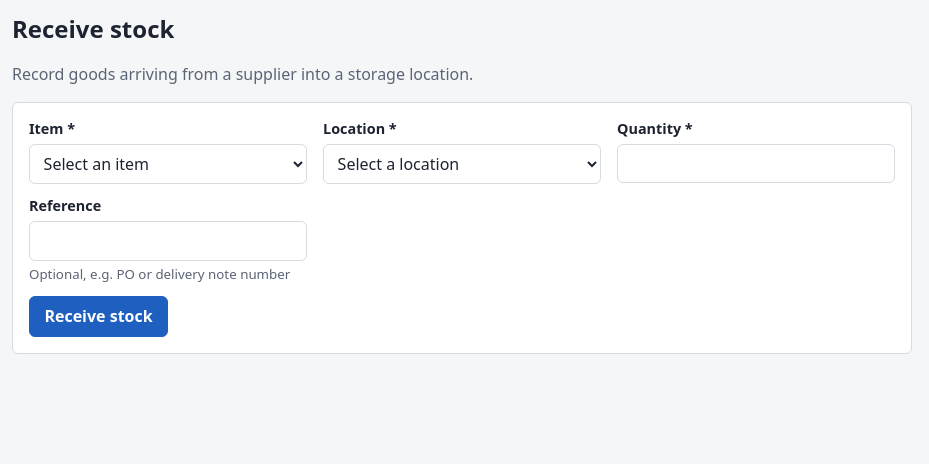
Test: ReceivePage › shows the server error and field errors and preserves the input
Select "BOLT-10 — Bolt 10mm" in the dropdown labelled "Item *": x=168, y=164 [29,144,307,184]
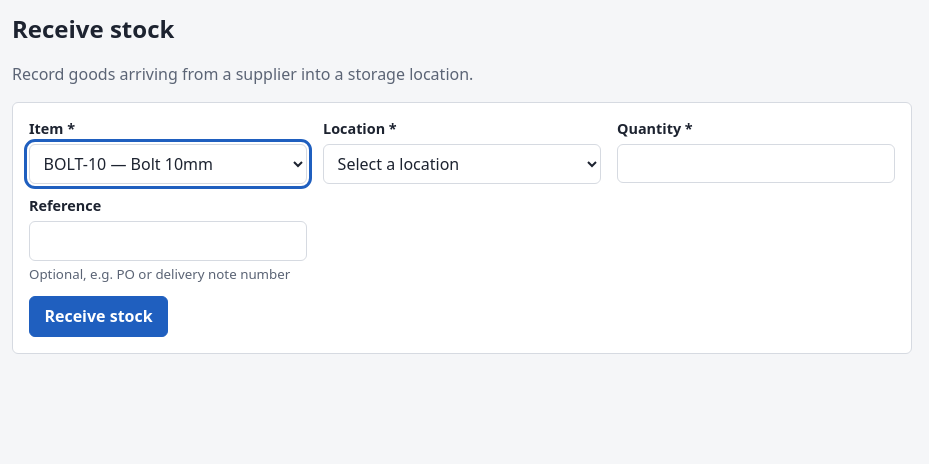
Select "A-01 — Aisle A bay 1" in the dropdown labelled "Location *": x=462, y=164 [323,144,601,184]
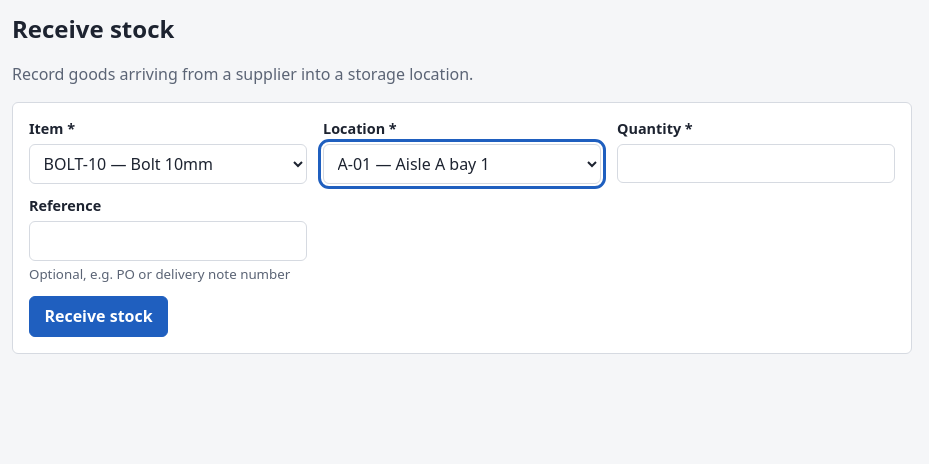
In the field labelled "Quantity *": x=756, y=164 [617,144,895,184], type "10"
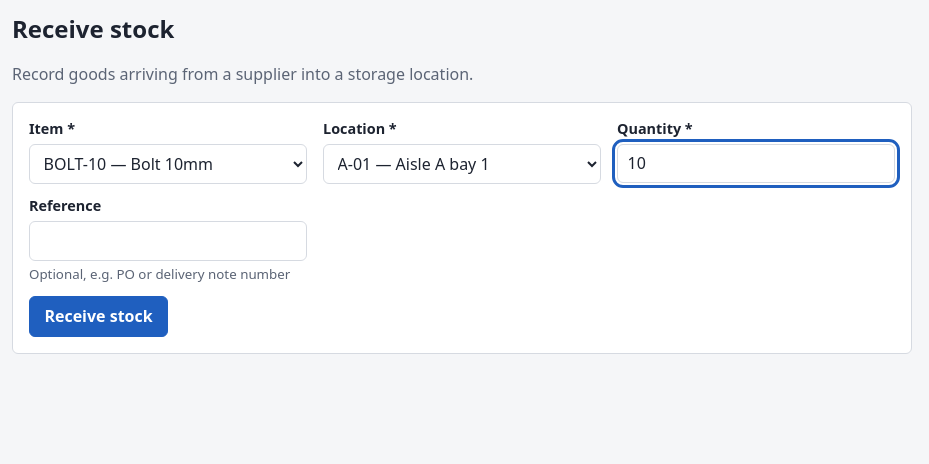
In the field labelled "Reference": x=168, y=241 [29,221,307,261], type "PO-1"
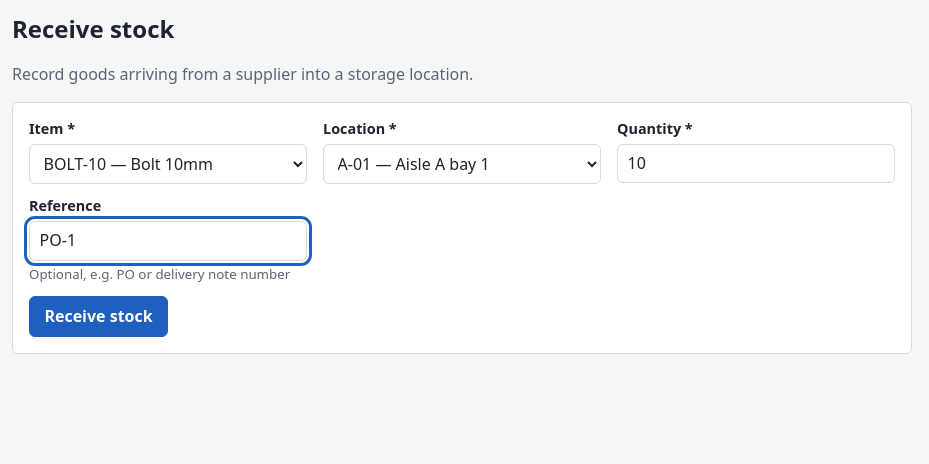
Click the button "Receive stock": x=98, y=317 [29,296,168,337]
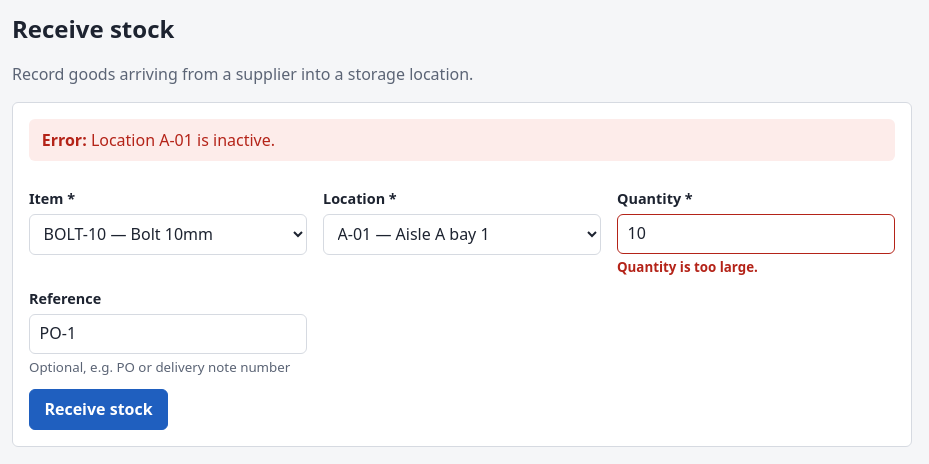
Result: the message shows "Location A-01 is inactive." at [91,129,275,151]
Result: the text "Quantity is too large." is shown at [617,258,758,276]
